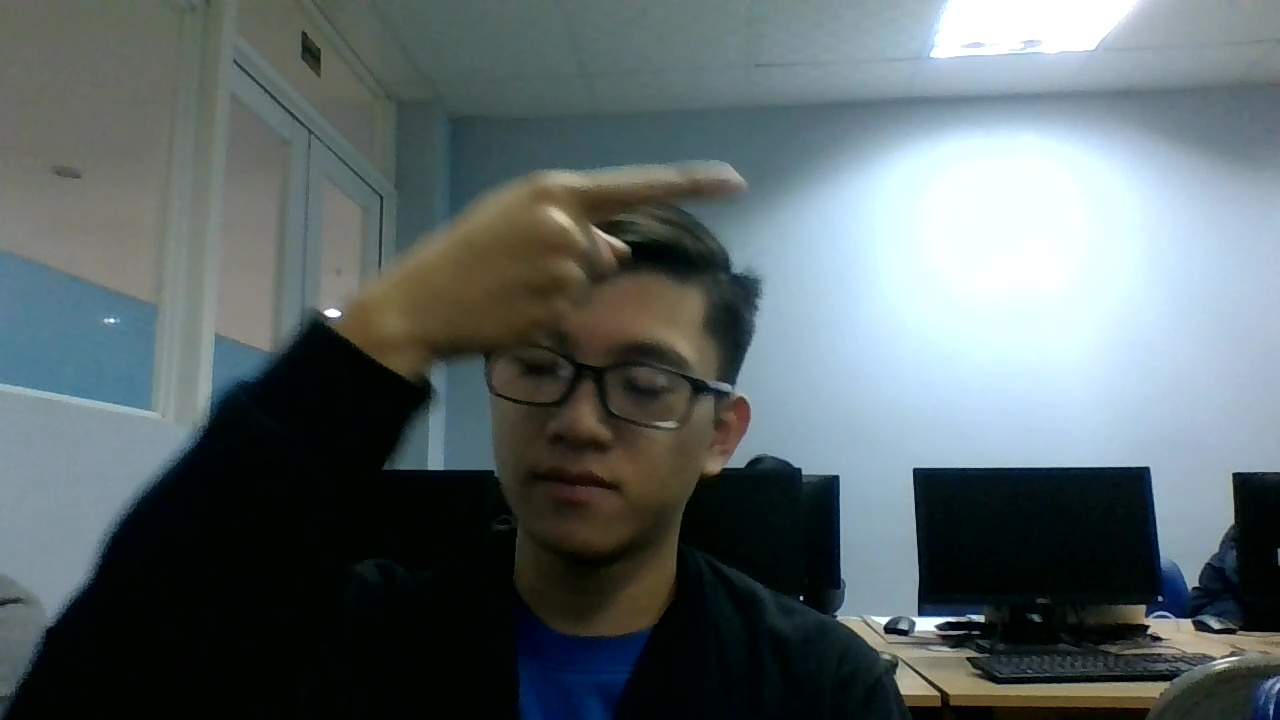left: (399, 145, 748, 366)
